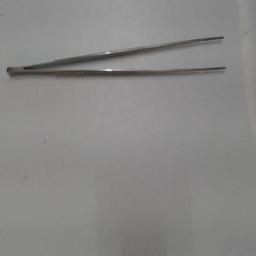DeBakey Dissector: (4, 27, 234, 91)
